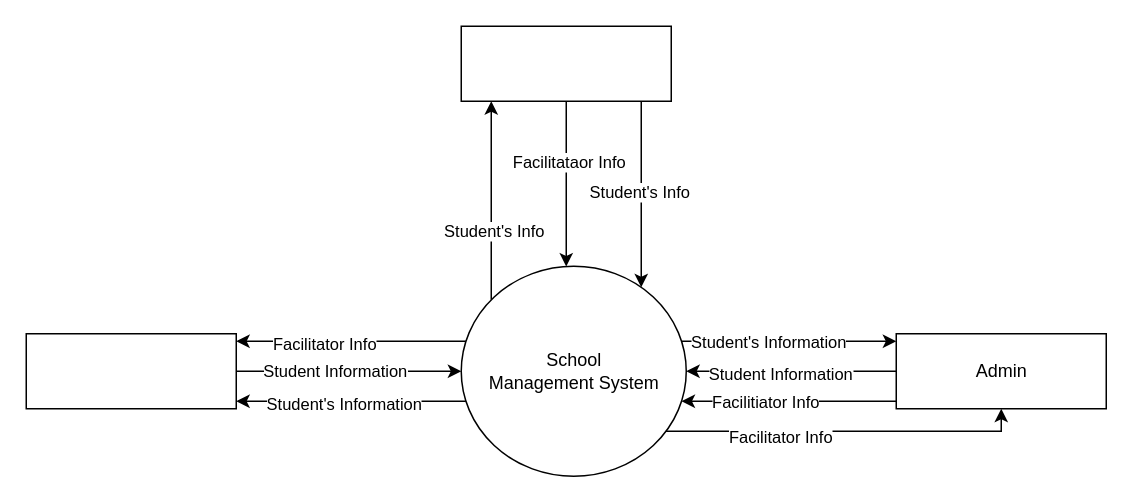
Image size: 1133x503. Some labels were removed from this diagram. Here are the shapes that lost their labels. From the top down, the centre of each, then its label:
the point at 565,63: Facilitator
the point at 130,370: Student
